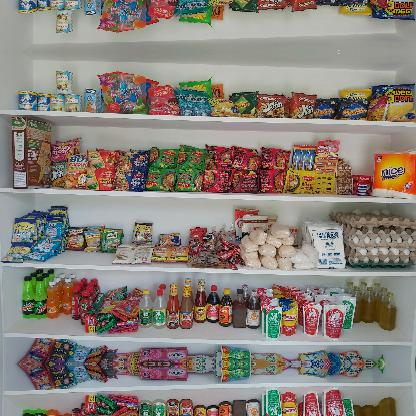Koko-Krunch: (8, 114, 54, 190)
